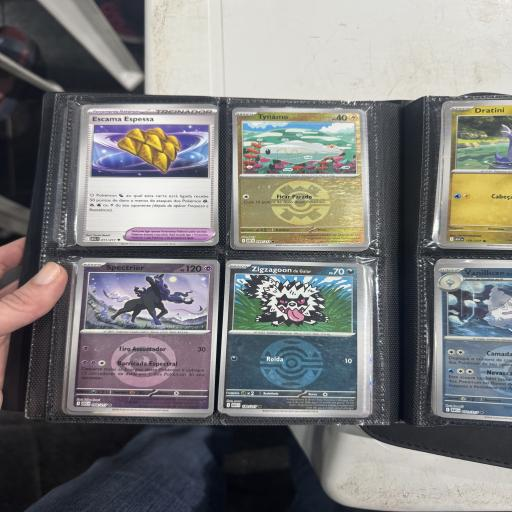card: (66, 257, 220, 414), (218, 260, 370, 416), (76, 104, 220, 247), (231, 105, 371, 249)
